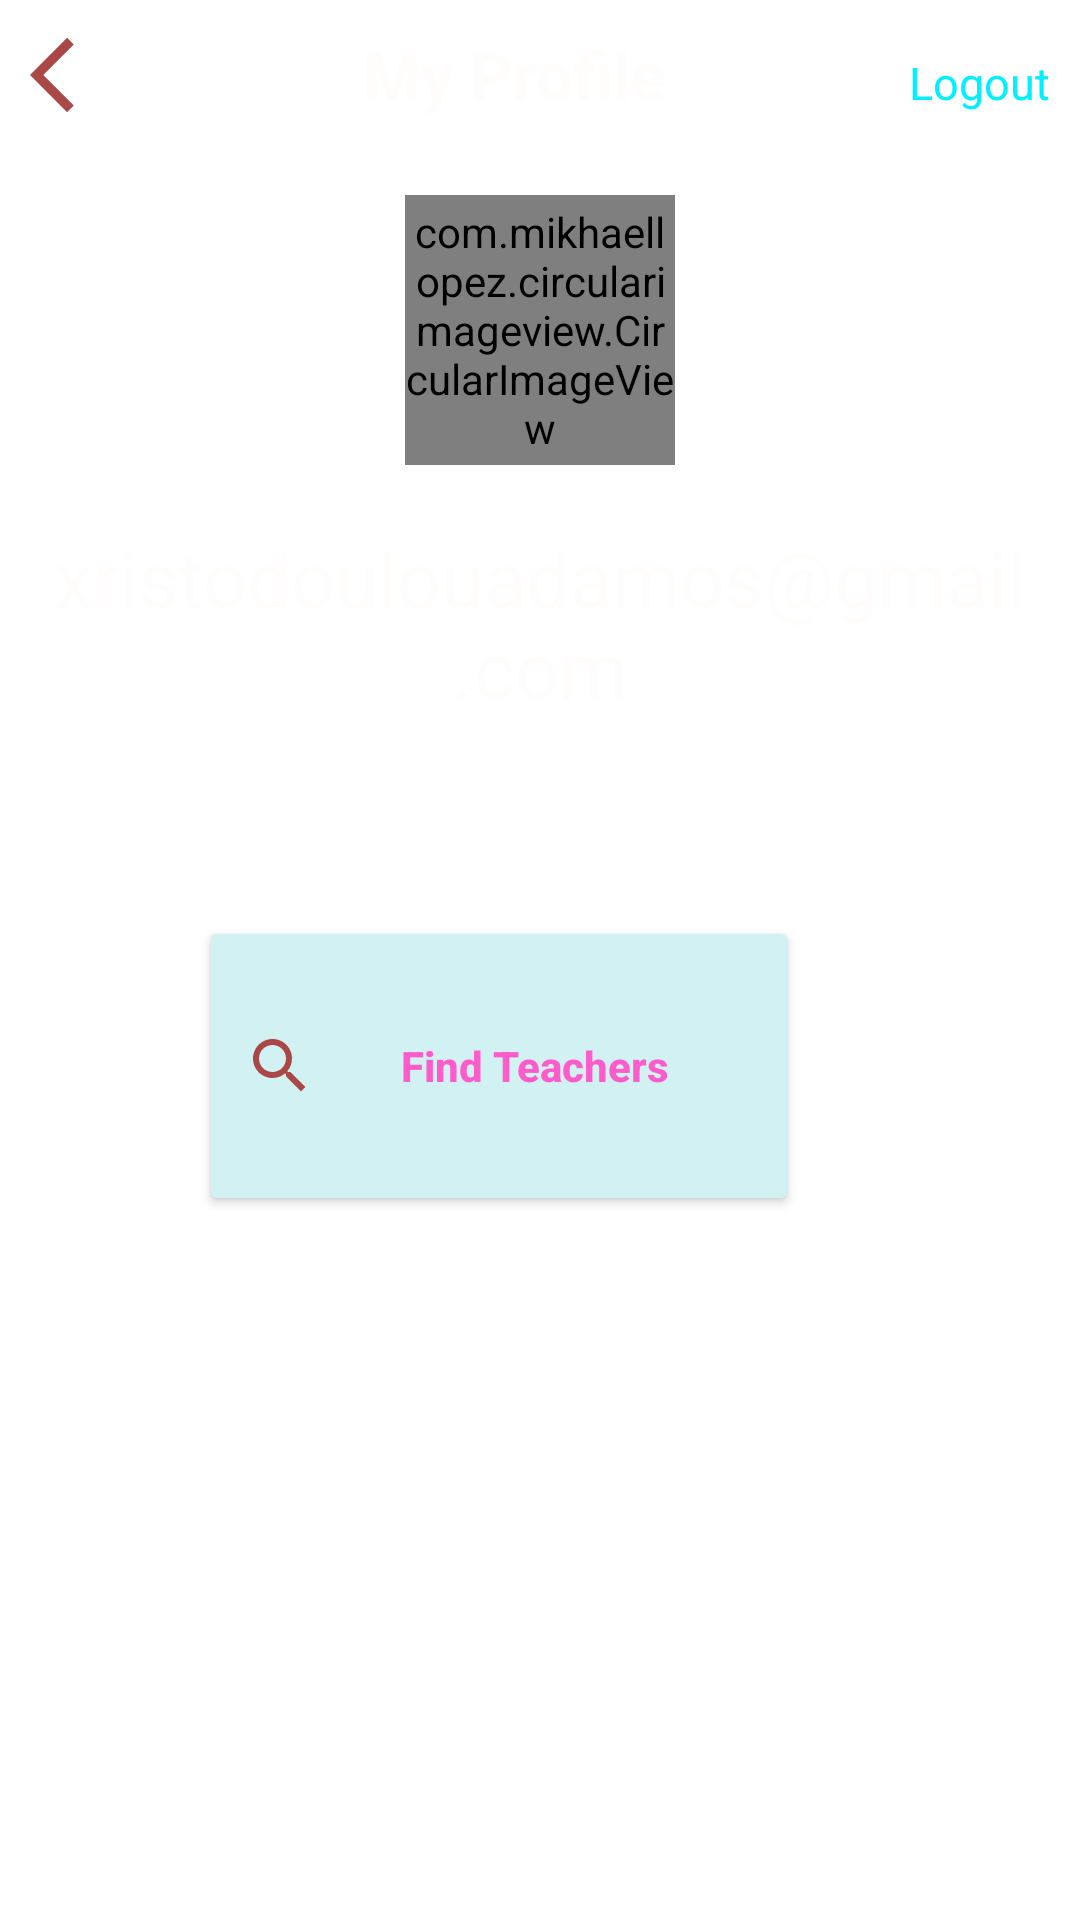

Screen size 1080w x 1920h. Icon name, then its center in pixels as (x,y):
arrow back: (52,75)
